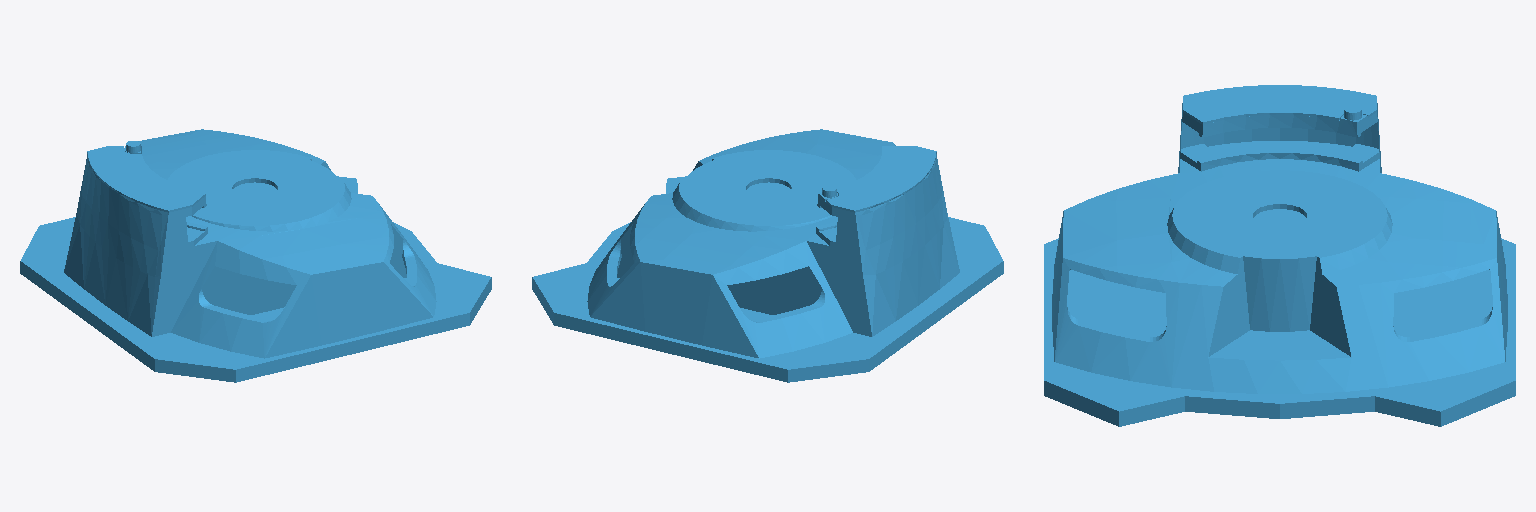
URDF robot description (simple_box):
<!-- a simple test of gazebo functions -->

<robot name="simple_box">
  <link name="base_link">
    <visual>
      <origin xyz="0.000 0.000 0.000" rpy=" 0.0000 0.000 0.000" />
      <geometry>
        <cylinder length="0.01" radius="0.2" />
      </geometry>
    </visual>
  </link>

  <joint name="joint_0" type="fixed">
		<!-- <movement type="weld" rigidity = "flexible"/> -->
		<parent link="base_link" />
		<child link="my_box" />
		<origin rpy="0 0 0" xyz="0 0 0" />
		<!-- <T_Parent_Joint xyz = "0.0000 0.0000 0.0000" rpy = "0.0000 0.0000 0.0000"/>
		<T_Child_Joint xyz = "0.0000 0.0000 0.0000" rpy = "0.0000 0.0000 0.0000"/> -->
	</joint>




  <link name="my_box">    
    <visual>
      <origin xyz="0.000 0.000 0.000" rpy=" 0.0000 0.000 0.000" />
      <geometry>
        <!-- <mesh filename = "L6Spindle.obj" scale = "1.0"/> -->
        <mesh filename="package://robot_model/mesh/L0.obj" scale="1 1 1" />
      </geometry>
    </visual>

    <collision>
      <origin xyz="0.000 0.000 0.000" rpy=" 0.0000 0.000 0.000" />
      <geometry>
        <!-- <mesh filename = "L6Spindle.obj" scale = "1.0"/> -->
        <mesh filename="package://robot_model/mesh/L0.obj" scale="1 1 1" />
      </geometry>
    </collision>
  </link>
  <gazebo reference="my_box">
    <material>Gazebo/Blue</material>
  </gazebo>
</robot>

--- Facts derived from the render (not from the file) ---
3 views of the same robot in one strip: view 1: azimuth 30°, elevation 25°; view 2: azimuth 150°, elevation 25°; view 3: azimuth 270°, elevation 25° (orthographic).
Model simple_box with 2 links and 1 joints (1 fixed), rooted at base_link, posed every joint at zero.
Visible links, largest first — view 1: my_box; view 2: my_box; view 3: my_box.
Link boxes in pixels (box(x1,y1,x2,y2)): my_box: box(20, 129, 491, 382); my_box: box(532, 129, 1003, 382); my_box: box(1044, 85, 1515, 426).
Size in the robot's own frame: 0.846 by 0.856 by 0.337 metres.
Meshes: 1 distinct files referenced, 1 mesh visuals loaded (1 OBJ).